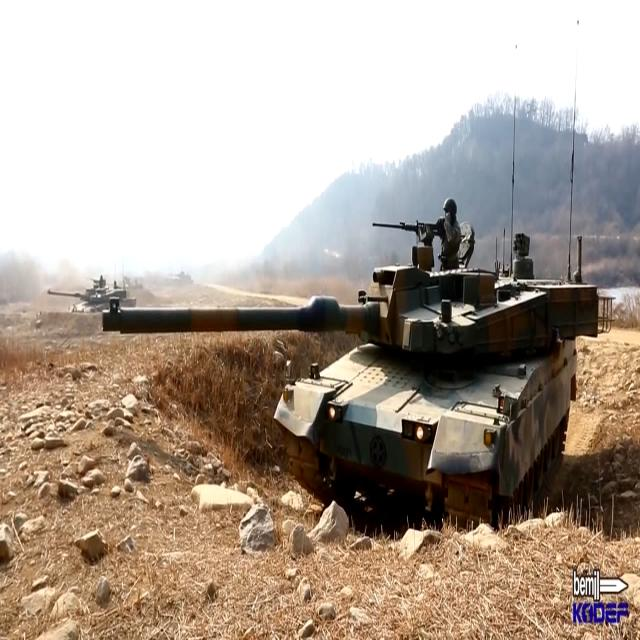korea tank: (101, 196, 615, 532)
